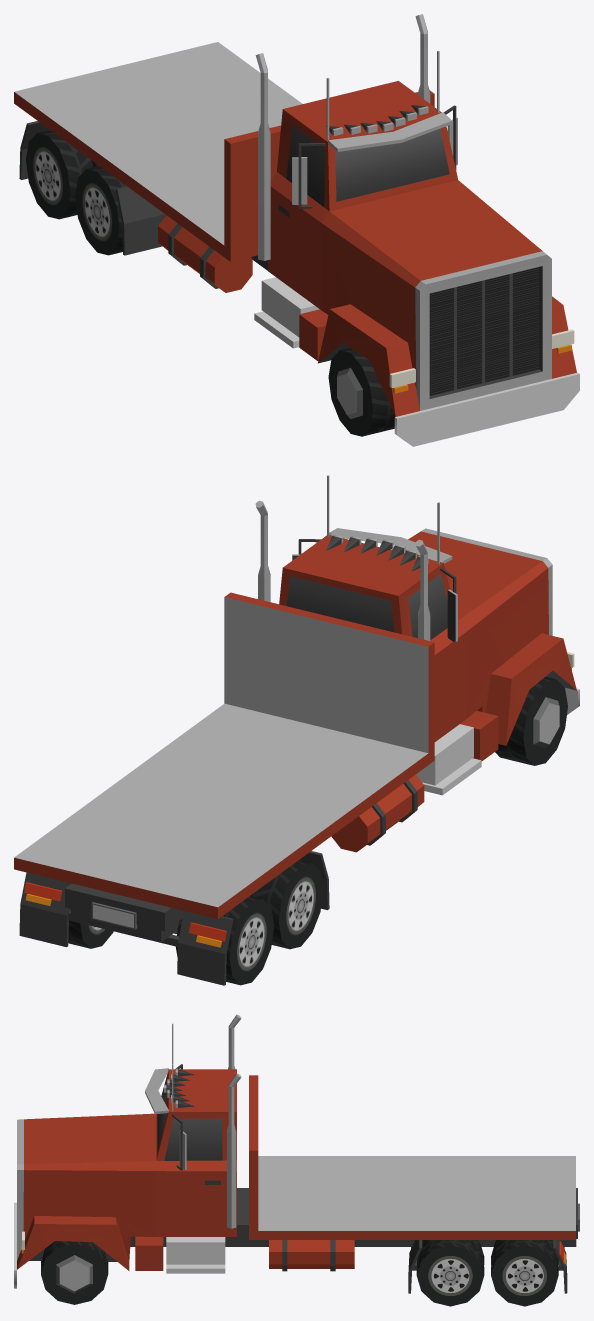
The model's file is TruckAmericanD.fbx.
3 renders of one model, top to bottom at view 1: azimuth 30°, elevation 25°; view 2: azimuth 150°, elevation 25°; view 3: azimuth 270°, elevation 25°, orthographic. The views are drawn at different scales.
Visible parts, largest first — view 1: TruckAmericanD, TireFR, TireBRY, TireBRX; view 2: TruckAmericanD, TireBRX, TireFR, TireBRY, TireBLY; view 3: TruckAmericanD, TireBLY, TireBLX, TireFL.
Part boxes in pixels (box(x1,y1,x2,y2)): TruckAmericanD: box(14, 14, 579, 446); TireFR: box(328, 347, 395, 436); TireBRY: box(26, 130, 98, 219); TireBRX: box(75, 166, 125, 255); TruckAmericanD: box(14, 475, 579, 985); TireBRX: box(250, 860, 323, 949); TireFR: box(495, 677, 567, 765); TireBRY: box(176, 896, 273, 985); TireBLY: box(68, 909, 113, 948); TruckAmericanD: box(14, 1014, 579, 1293); TireBLY: box(491, 1240, 558, 1306); TireBLX: box(416, 1240, 484, 1306); TireFL: box(41, 1241, 108, 1304).
Bounding box in the file's own units: 236 × 313 × 715.
